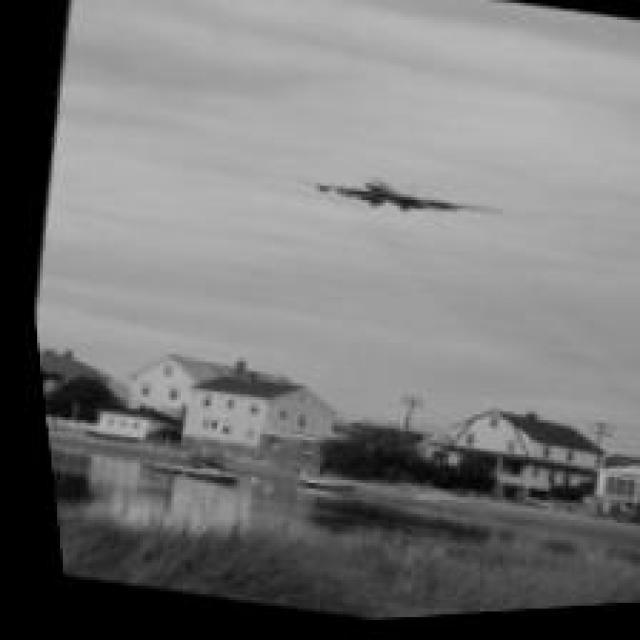aeroplane: (280, 149, 509, 249)
